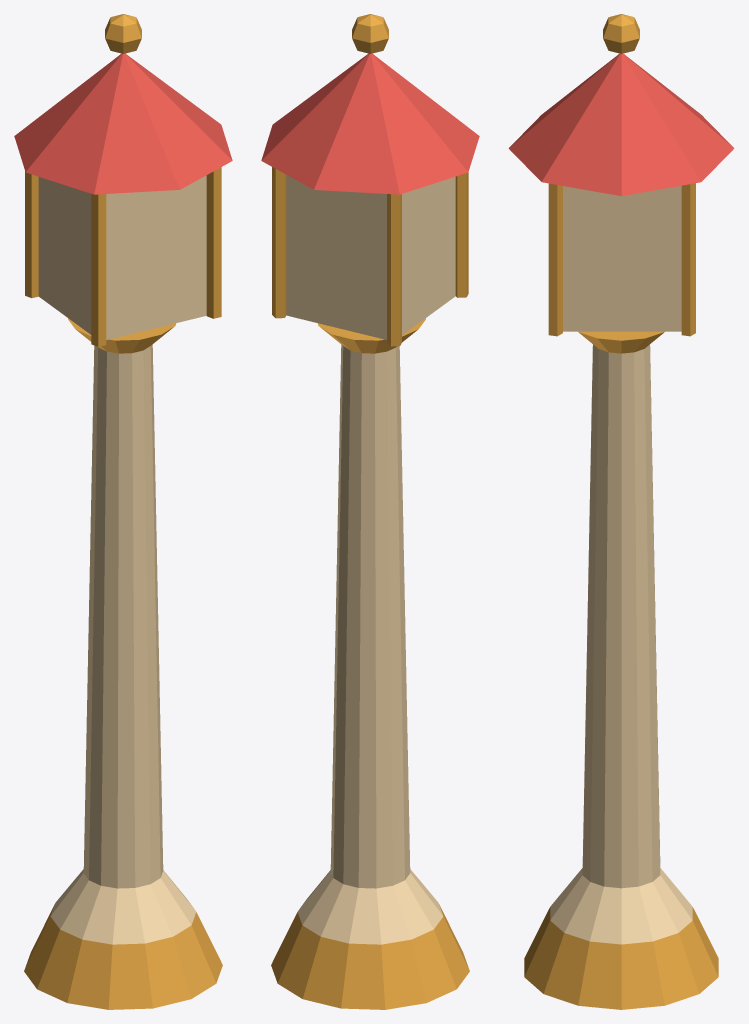
Rendered from ParkParkDecorLamp.obj.
3 renders of one model, left to right at view 1: azimuth 30°, elevation 25°; view 2: azimuth 150°, elevation 25°; view 3: azimuth 270°, elevation 25°, orthographic.
Parts seen in each view (by area): view 1: ParkParkDecorLamp; view 2: ParkParkDecorLamp; view 3: ParkParkDecorLamp.
Boxes of the visible parts, x1,y1,x2,y2 form: ParkParkDecorLamp: (14,14,232,1009); ParkParkDecorLamp: (261,14,479,1009); ParkParkDecorLamp: (508,14,734,1009).
Bounding box in the file's own units: 1.7 × 7.91 × 1.7.
